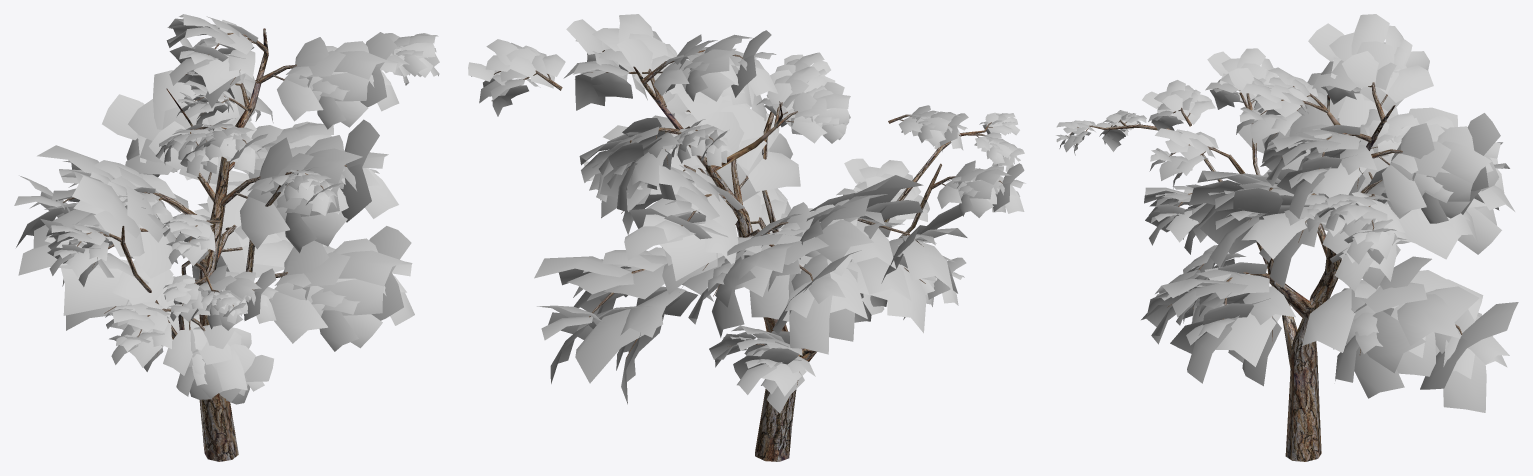
The model's file is MapleTree.dae.
3 views of the same model, side by side, from view 1: azimuth 30°, elevation 25°; view 2: azimuth 150°, elevation 25°; view 3: azimuth 270°, elevation 25° (orthographic). The views are drawn at different scales.
Parts seen in each view (by area): view 1: tree_small_joined; view 2: tree_small_joined; view 3: tree_small_joined.
Part boxes in pixels (x1=…): tree_small_joined: x1=14, y1=14, x2=439, y2=461; tree_small_joined: x1=468, y1=14, x2=1025, y2=461; tree_small_joined: x1=1056, y1=14, x2=1518, y2=461.
Bounding box in the file's own units: 4.98 × 4.2 × 4.4.
